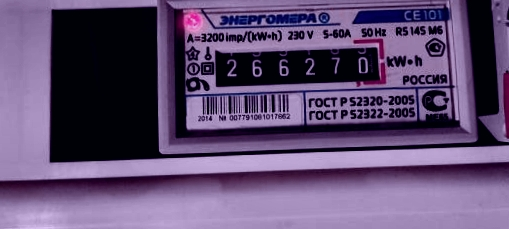0: (356, 54, 368, 75)
2: (224, 57, 238, 78), (303, 56, 315, 77)
6: (250, 58, 263, 78), (276, 57, 289, 77)
7: (328, 55, 341, 76)
screen: (204, 34, 393, 96)
